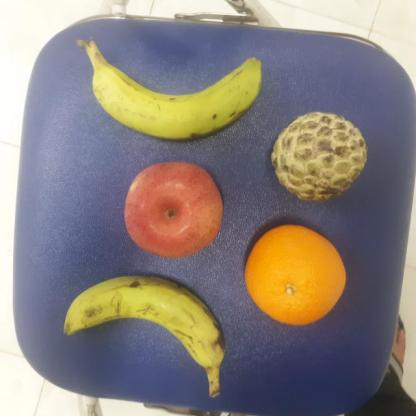annona: (267, 110, 369, 204)
apple: (121, 159, 225, 261)
banana: (60, 271, 229, 371), (86, 58, 264, 142)
orange: (241, 223, 348, 328)
